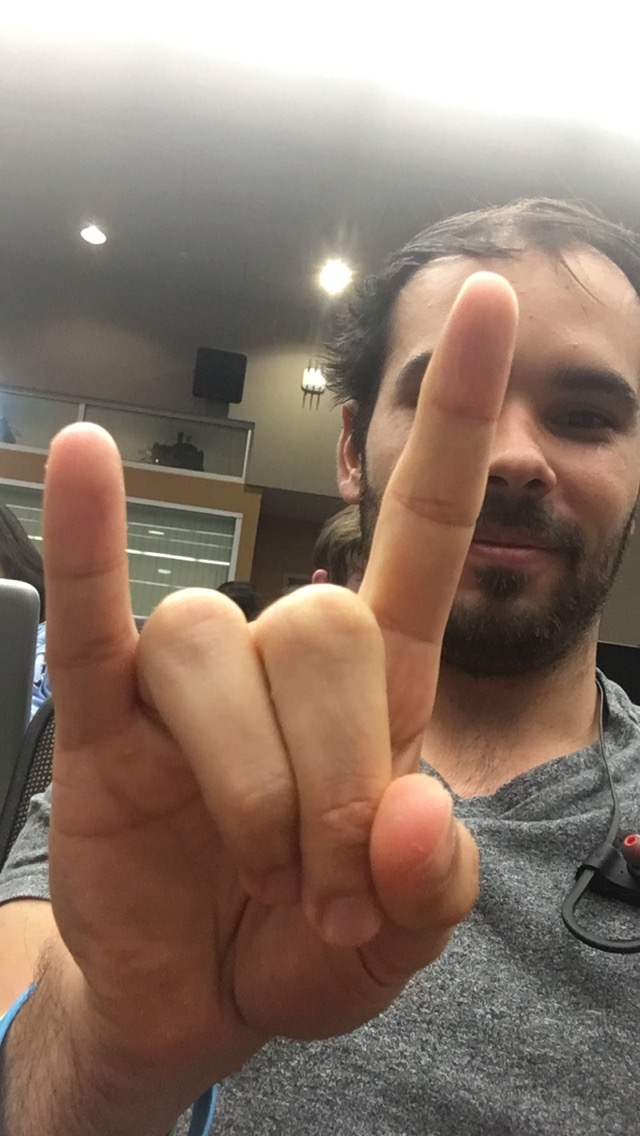defaultd: (45, 268, 518, 1064)
